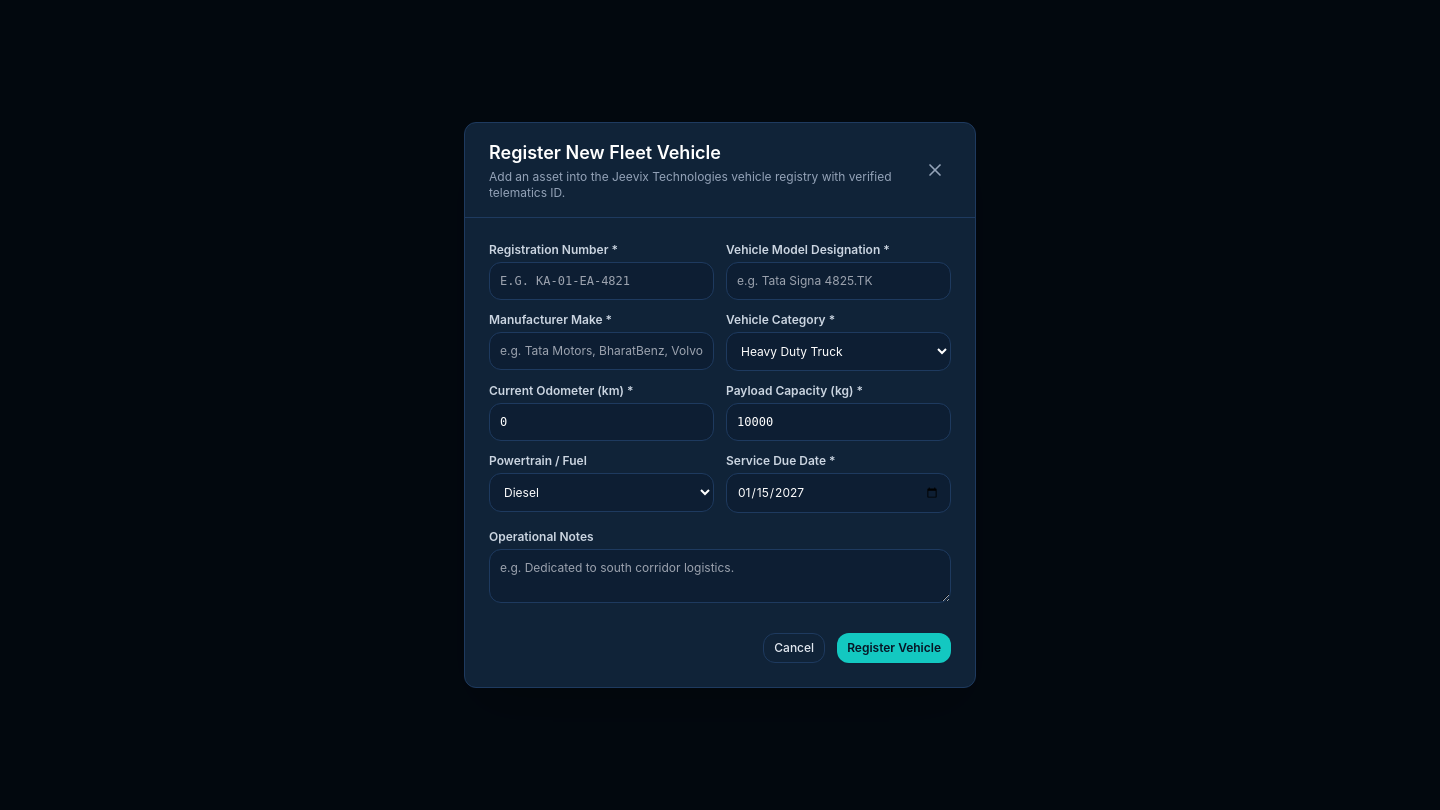
it: Component: AddVehicleModal › renders registration form and detects duplicate registration numbers
This screenshot has width=1440, height=810.
expect the heading "Register New Fleet Vehicle" is shown: met, box [489,142,721,163]
# Fill form with an existing registration KA-01-EA-4821
Type "KA-01-EA-4821" into the field with placeholder "e.g. KA-01-EA-4821" at point(602, 281), box [489,262,714,300]
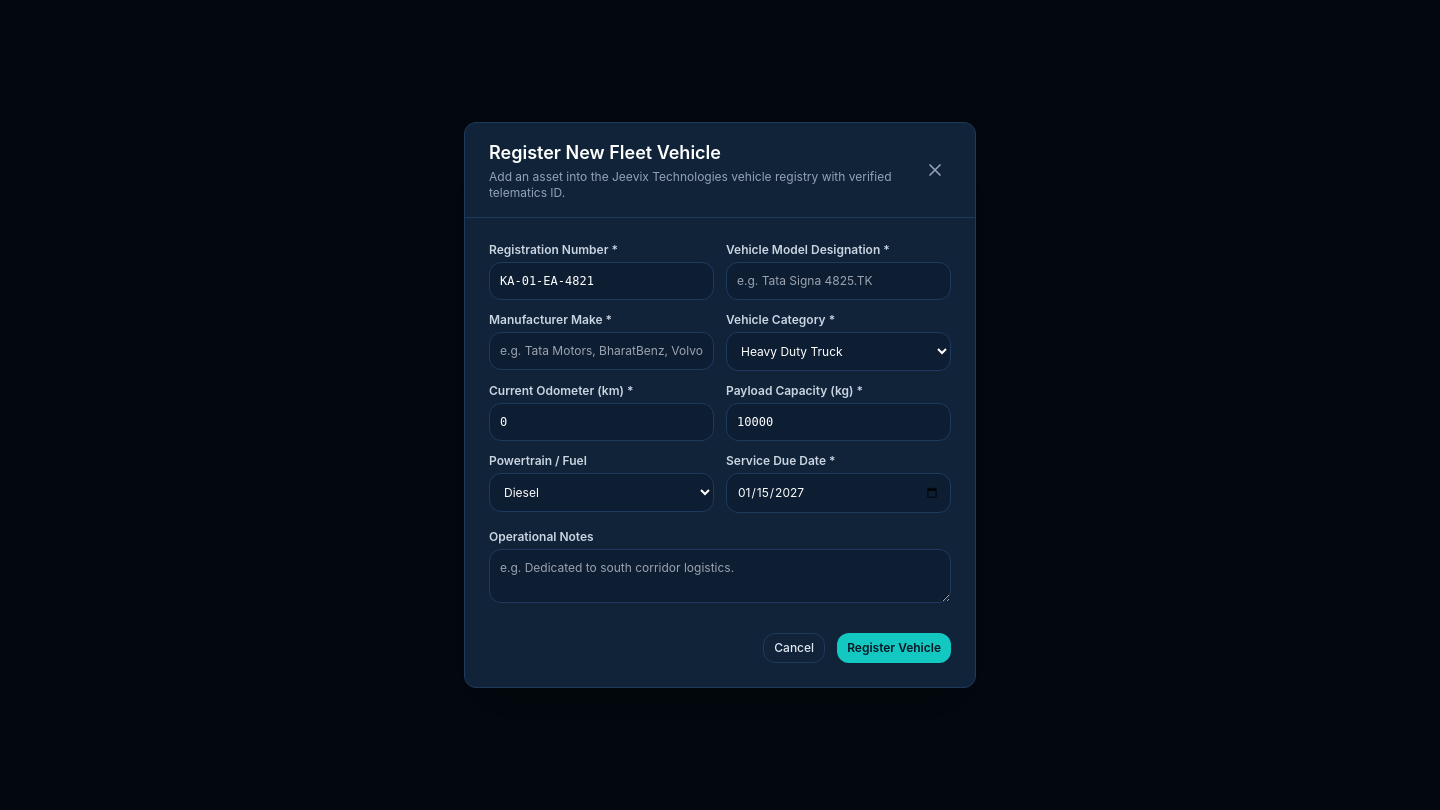
Type "Duplicate Test Truck" into the field with placeholder "e.g. Tata Signa 4825.TK" at point(838, 281), box [726,262,951,300]
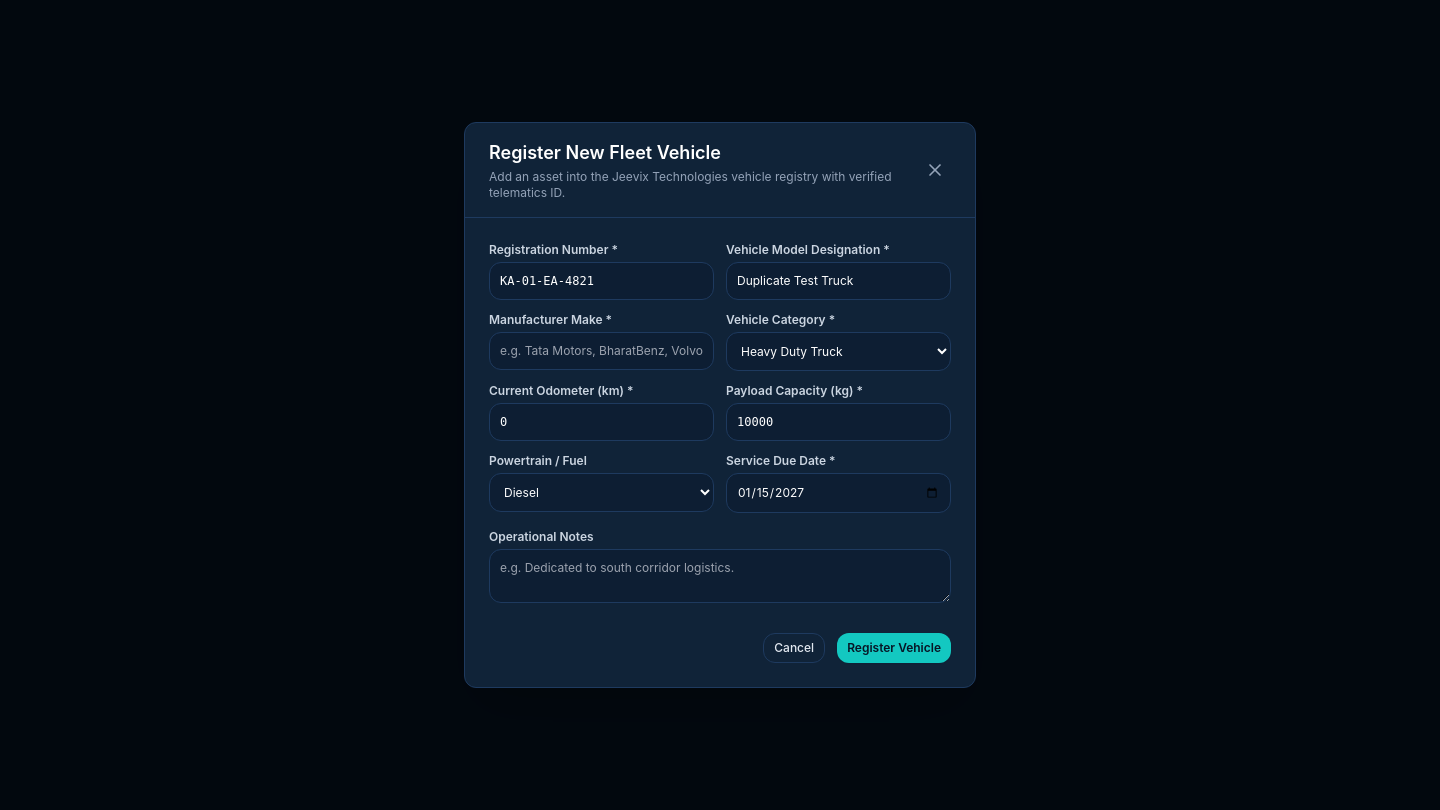
Type "Tata Motors" into the field with placeholder "e.g. Tata Motors, BharatBenz, Volvo" at point(602, 351), box [489,332,714,370]
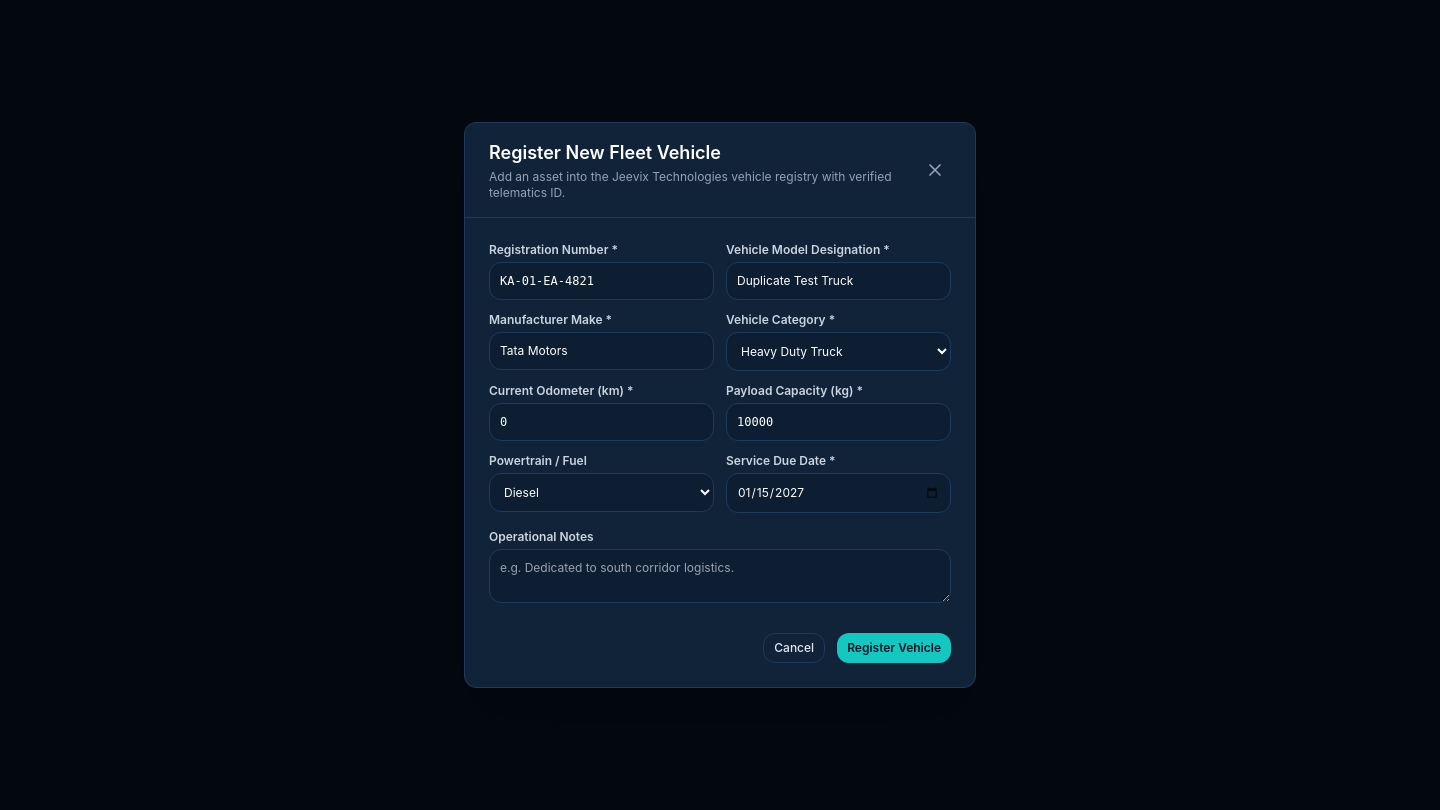
Submit the form, box [489,242,951,663]
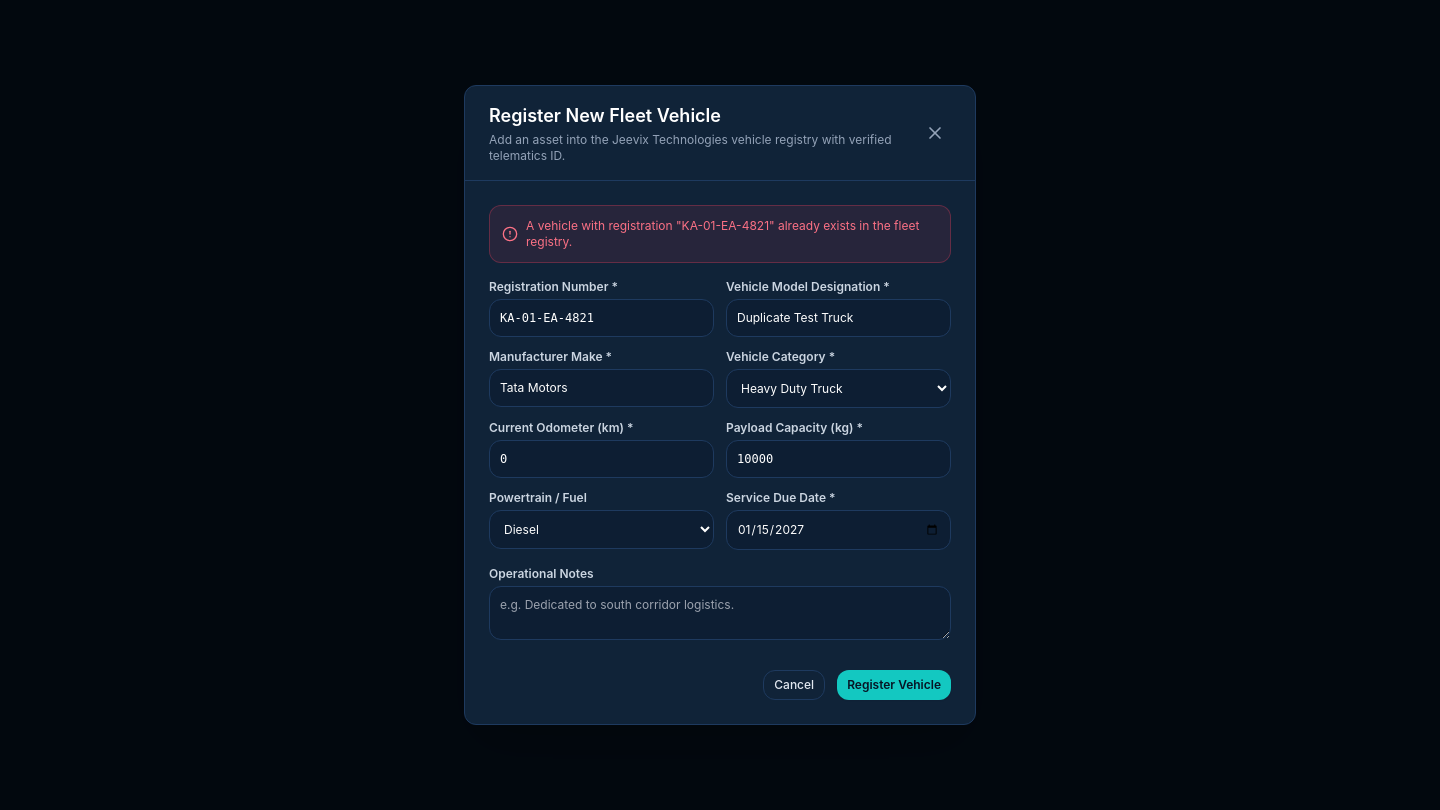
expect the text "already exists in the fleet registry" is shown: met, box [526,218,919,249]
